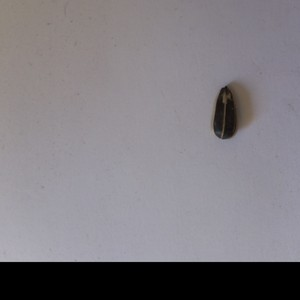girasol: (209, 82, 240, 143)
